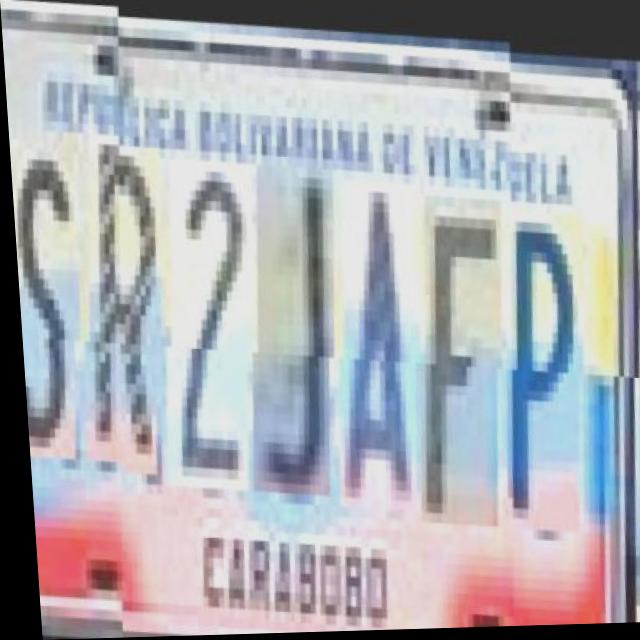2: (155, 154, 268, 490)
a: (326, 173, 434, 508)
f: (408, 188, 516, 522)
j: (240, 158, 348, 493)
p: (490, 191, 597, 515)
r: (72, 139, 177, 474)
s: (7, 133, 94, 468)
